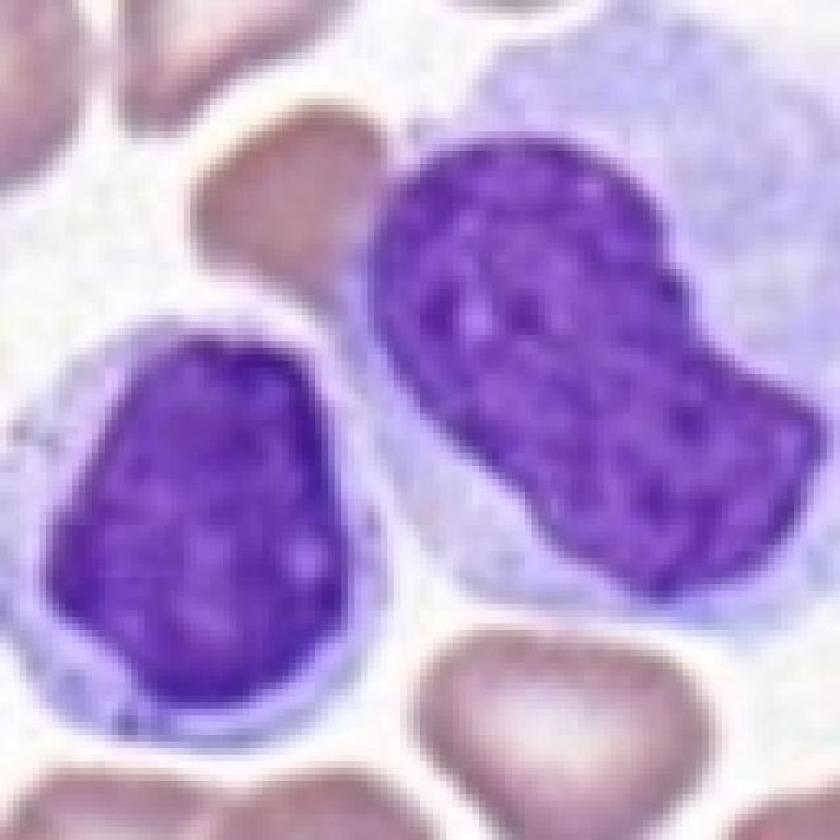lymphocyte: (335, 1, 840, 648), (4, 315, 401, 753)
